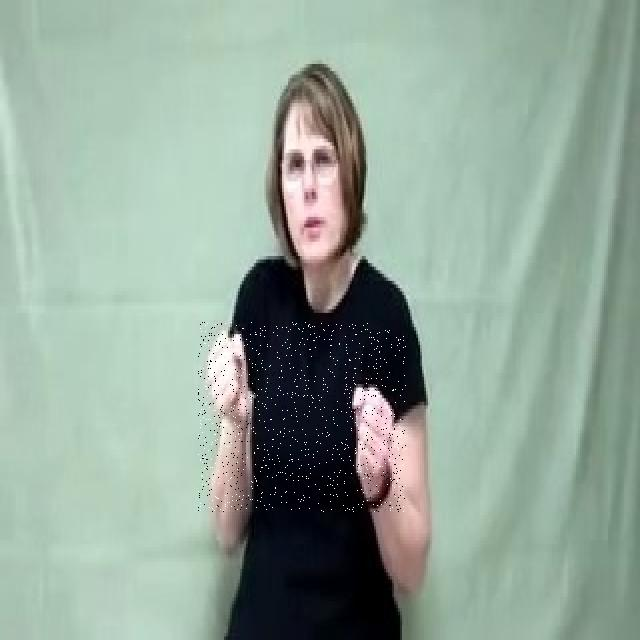cold: (198, 322, 406, 512)
